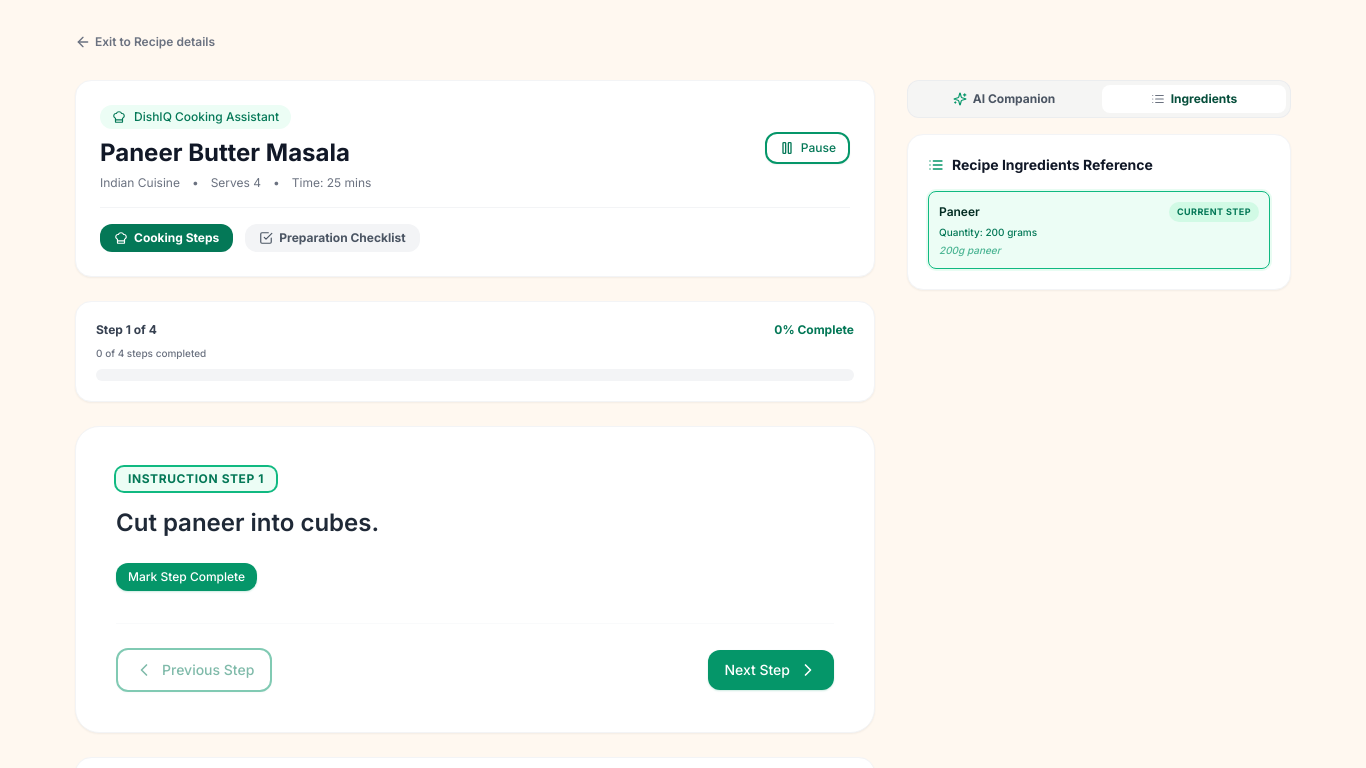
Scenario: CookingPage - Advanced Navigation & Progress (9.4) › Cooking Session Polish & Reliability (9.10) › 7. Navigation failure shows an accessible inline error banner that can be dismissed
Click the button "Next Step": (771, 670) [708, 650, 834, 690]
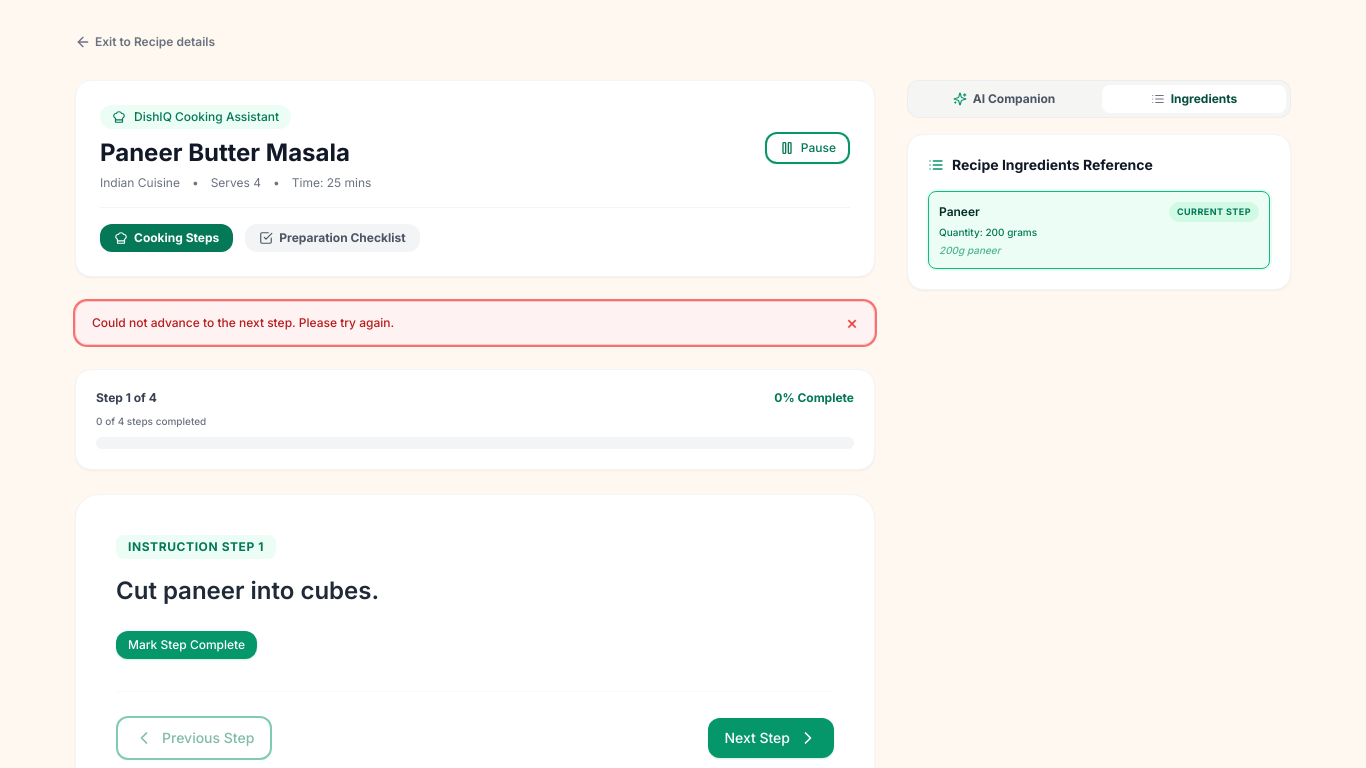
expect the message "Could not advance to the next step. Please try again. ×" is shown: met, box [75, 301, 875, 345]
expect the message shows "Could not advance to the next step": met, box [92, 315, 394, 330]
Dismiss button works
Click the button named "Dismiss error": (852, 323) [846, 314, 858, 332]
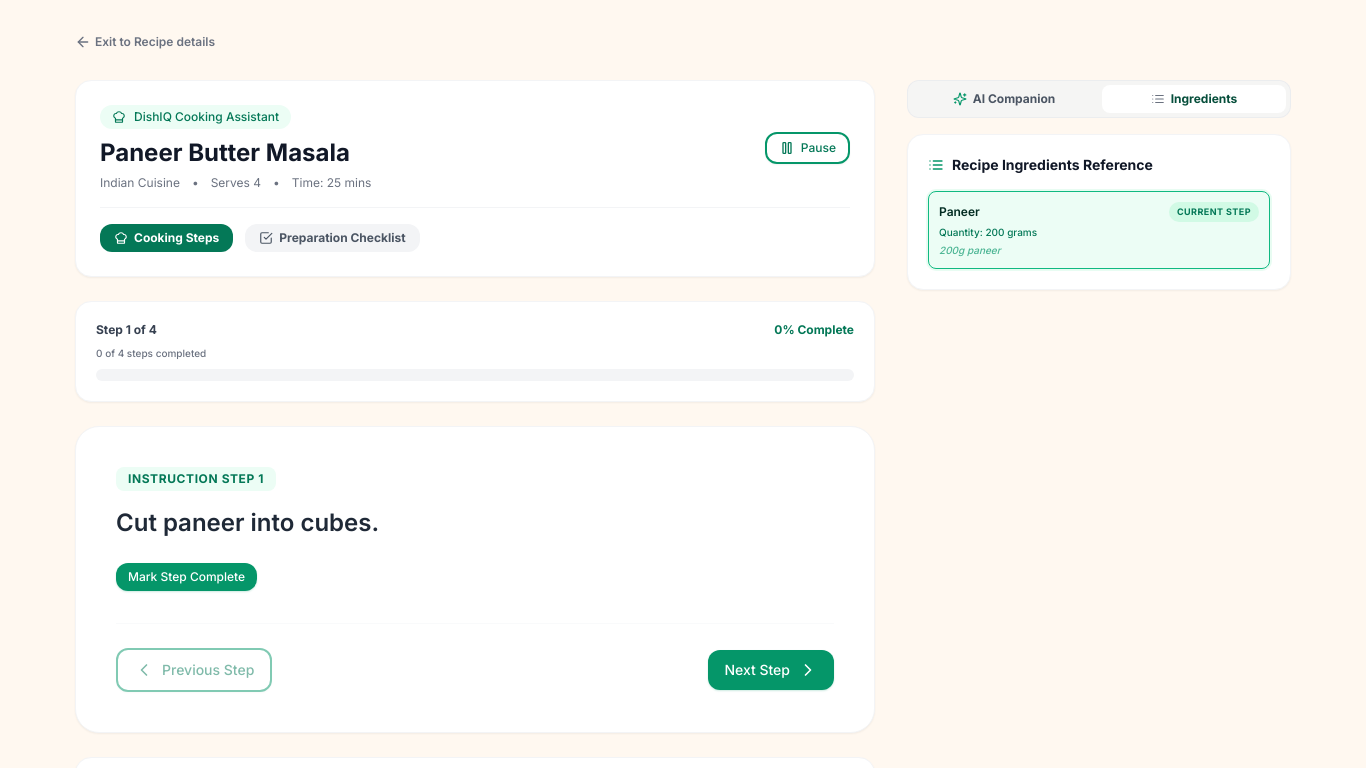
expect the message "Could not advance to the next step. Please try again. ×" is gone: met
